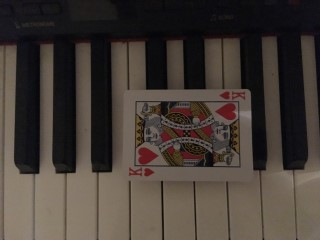KingOfHearts: (122, 88, 252, 181)
